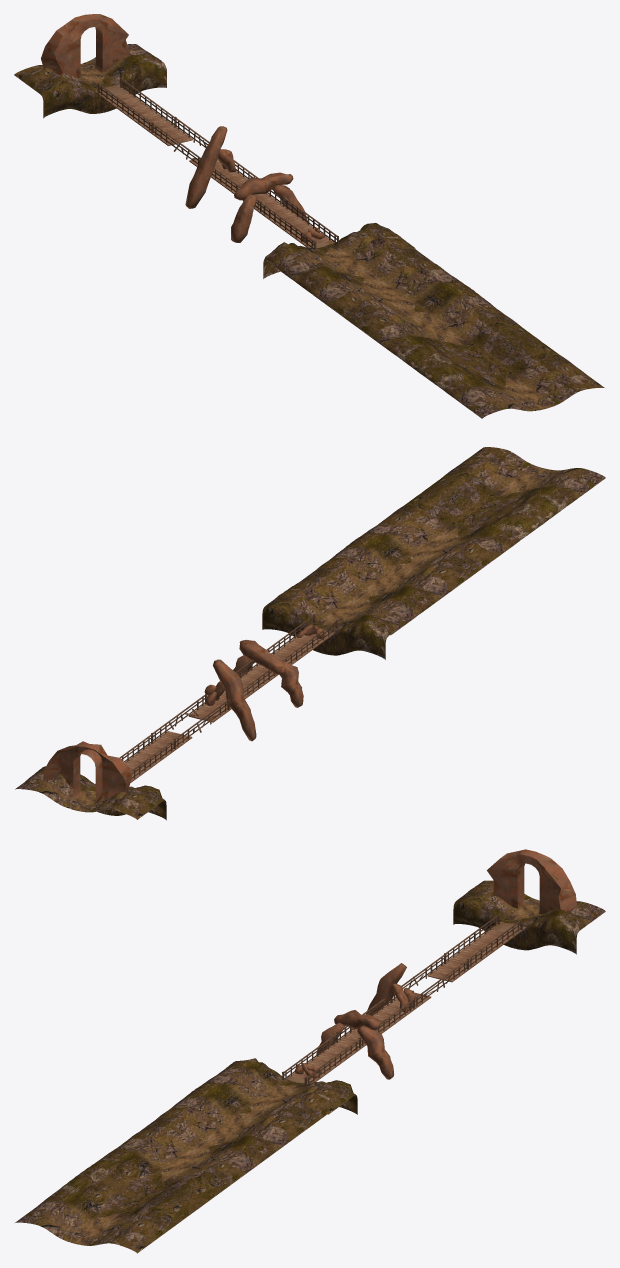
Rendered from bridge.fbx.
3 views of the same model, one above another, from view 1: azimuth 30°, elevation 25°; view 2: azimuth 150°, elevation 25°; view 3: azimuth 330°, elevation 25° (orthographic).
Visible parts, largest first — view 1: ground path, cave entrance, Bridge start, slide stones, Bridge end, cross slides, Bridge, Broken Bridge; view 2: ground path, cave entrance, Bridge start, slide stones, cross slides, Broken Bridge, Bridge end, Bridge; view 3: ground path, cave entrance, Bridge start, Bridge end, slide stones, Bridge, Broken Bridge, cross slides.
Part boxes in pixels (<box>): ground path: <box>266,237,604,418</box>; cave entrance: <box>14,14,166,118</box>; Bridge start: <box>260,197,415,278</box>; slide stones: <box>231,172,307,242</box>; Bridge end: <box>94,77,176,133</box>; cross slides: <box>185,126,236,208</box>; Bridge: <box>211,160,284,212</box>; Broken Bridge: <box>151,118,222,170</box>; ground path: <box>289,447,605,635</box>; cave entrance: <box>15,741,166,820</box>; Bridge start: <box>262,586,400,664</box>; slide stones: <box>233,639,303,707</box>; cross slides: <box>204,659,256,741</box>; Broken Bridge: <box>153,694,229,749</box>; Bridge end: <box>119,733,175,782</box>; Bridge: <box>207,659,283,709</box>; ground path: <box>15,1069,331,1253</box>; cave entrance: <box>453,849,605,954</box>; Bridge start: <box>219,1033,360,1114</box>; Bridge end: <box>444,914,525,969</box>; slide stones: <box>316,1010,393,1079</box>; Bridge: <box>336,997,414,1048</box>; Broken Bridge: <box>390,954,468,1009</box>; cross slides: <box>367,963,415,1015</box>.
Size of the model in its own units: 20.27 by 13.34 by 132.
